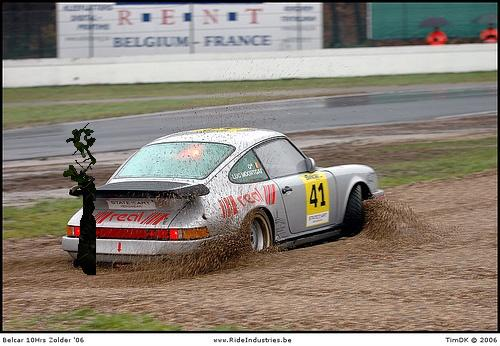tampered: (64, 124, 96, 275)
